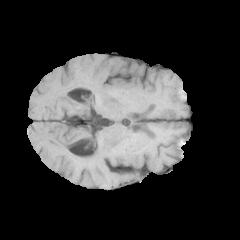glioma: (92, 151, 144, 181)
